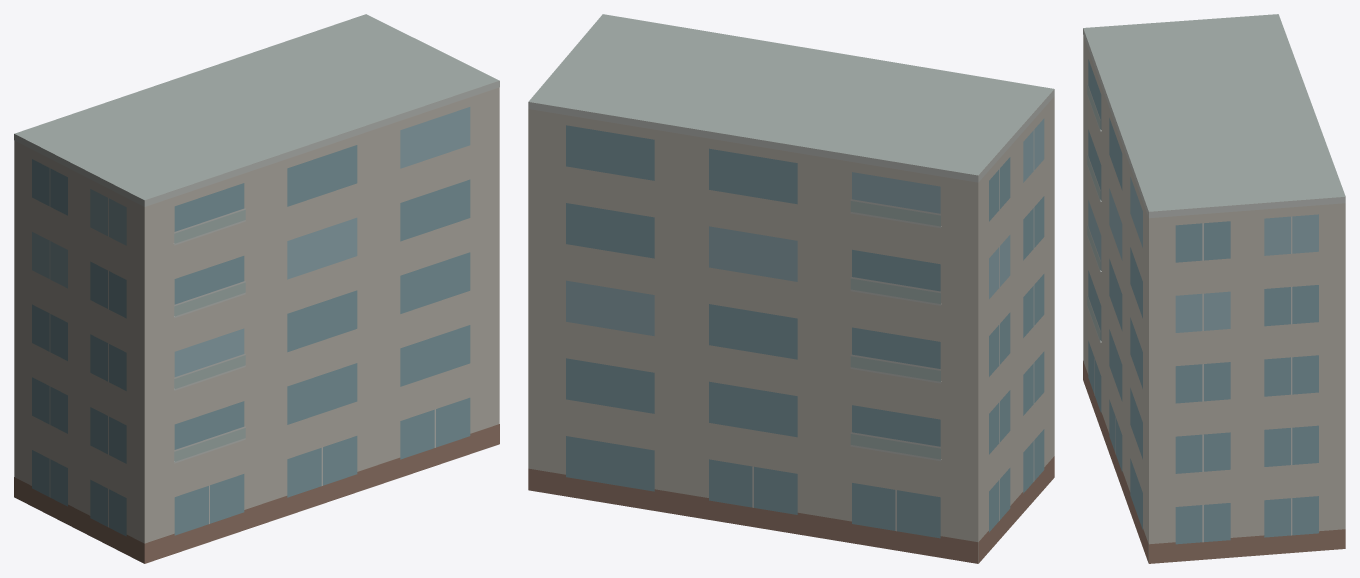
File: survey-upis-32894588.glb
3 views of the same model, side by side, from view 1: azimuth 30°, elevation 25°; view 2: azimuth 150°, elevation 25°; view 3: azimuth 270°, elevation 25° (orthographic). The views are drawn at different scales.
Visible parts, largest first — view 1: survey-upis-32894588.tmp; view 2: survey-upis-32894588.tmp; view 3: survey-upis-32894588.tmp.
Part boxes in pixels (x1,y1,x2,y2): survey-upis-32894588.tmp: [14, 14, 499, 563]; survey-upis-32894588.tmp: [528, 14, 1054, 563]; survey-upis-32894588.tmp: [1083, 14, 1345, 563].
Size of the model in its own units: 16.03 by 13.3 by 9.
